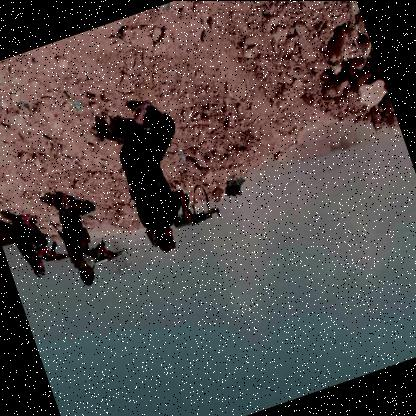rifle: (165, 193, 223, 236), (84, 232, 131, 270), (33, 234, 73, 273)
